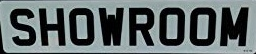character: (218, 5, 250, 47), (36, 6, 67, 47), (7, 7, 38, 47), (157, 6, 186, 48), (127, 6, 156, 47), (188, 6, 217, 47), (97, 5, 124, 47), (68, 6, 95, 46)
